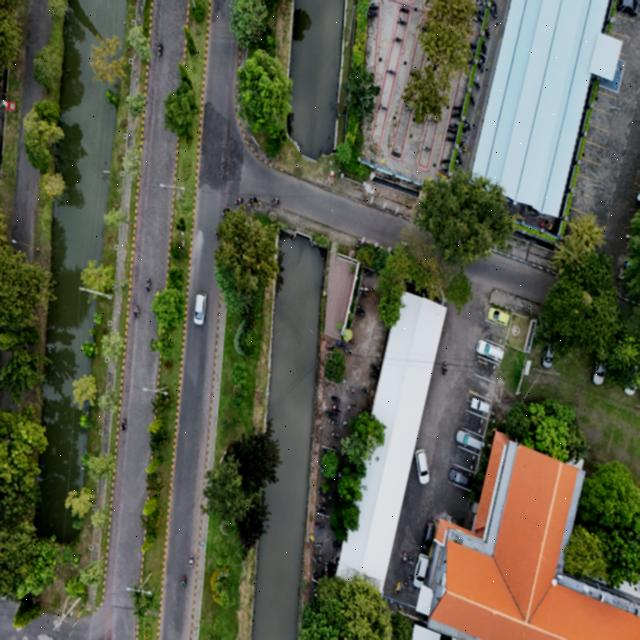Tree: (102, 330, 124, 360), (120, 147, 142, 177), (321, 446, 337, 482), (100, 385, 119, 415), (104, 206, 128, 228), (183, 26, 198, 58), (90, 506, 110, 530), (177, 60, 194, 88), (232, 360, 248, 388), (128, 94, 146, 118), (336, 140, 352, 166), (232, 388, 248, 412), (168, 265, 182, 289), (148, 416, 166, 434), (142, 532, 156, 554), (146, 456, 163, 474), (142, 496, 159, 514), (134, 604, 146, 620), (146, 592, 158, 608)
